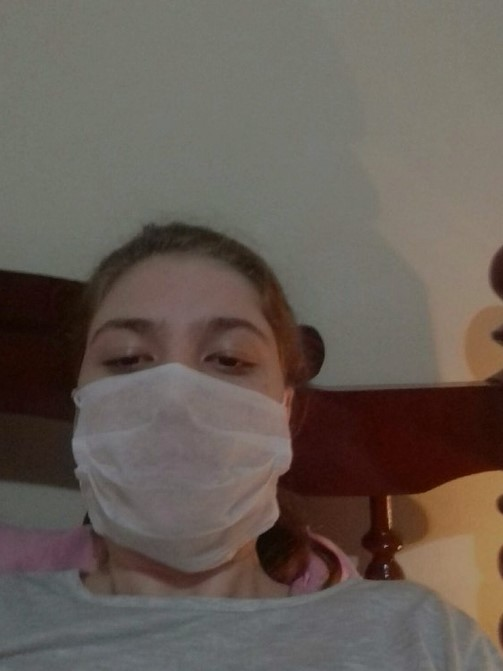face_with_mask: (63, 241, 299, 581)
